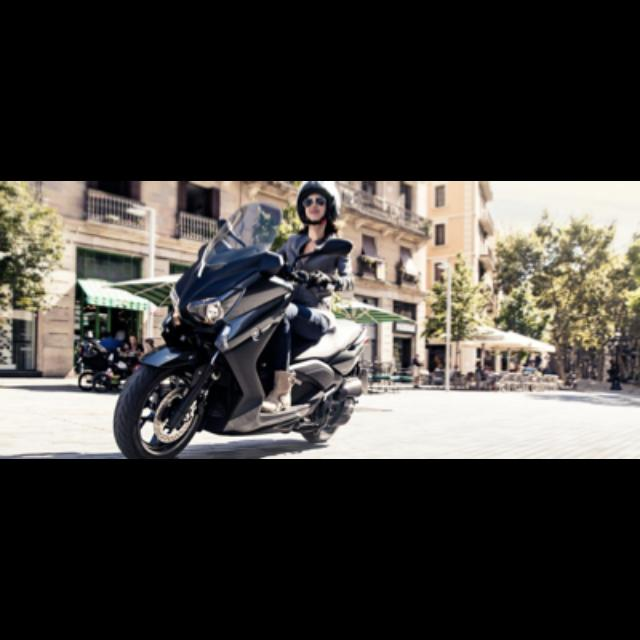With Helmet: (292, 181, 342, 229)
